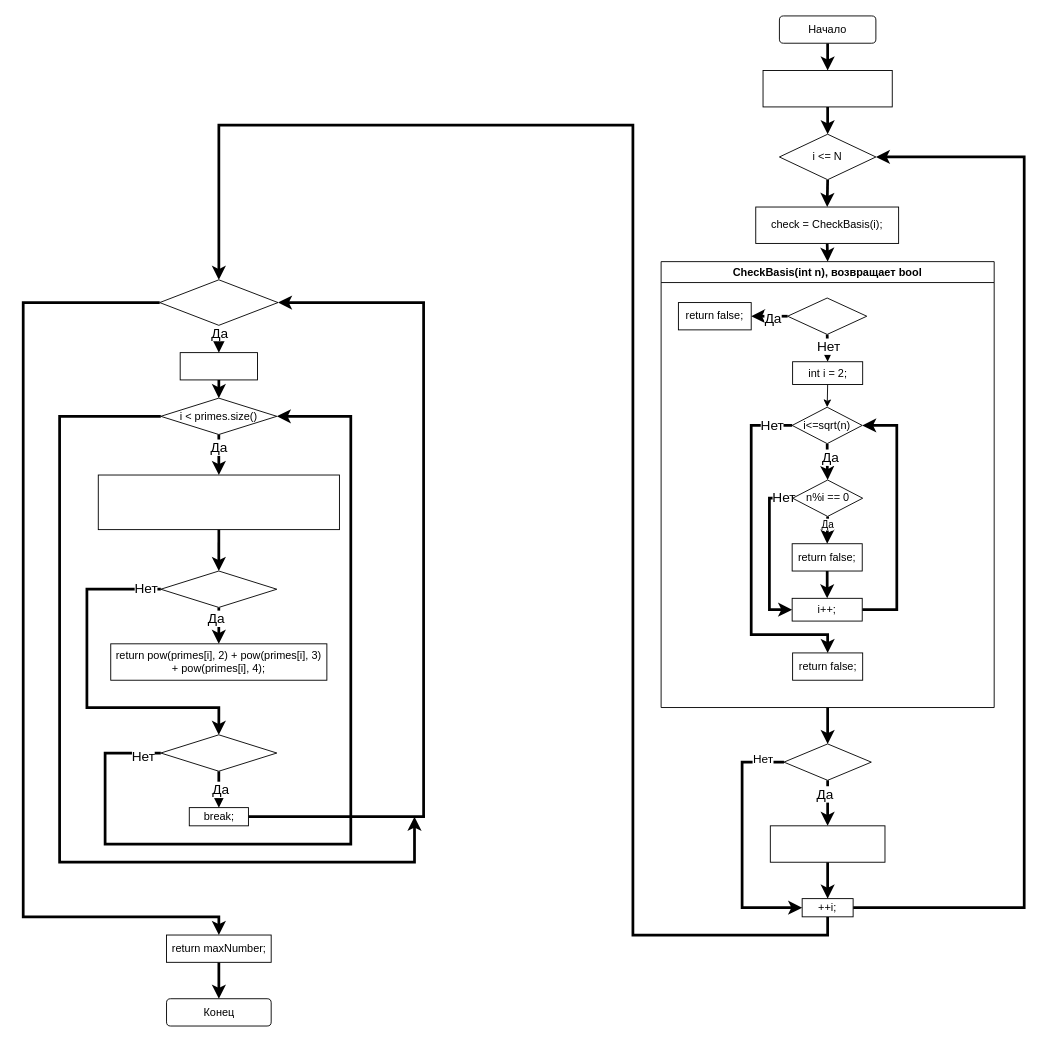
Some shapes in this 1048 by 1042 pixel diagram are drawn without their labels. The centre of each missing label's shape, as x and y in pixels:
"check" belongs at point 827,761.
"int i = 0;" belongs at point 218,366.
"int value = pow(primes[i], 2) + pow(primes[i], 3) + pow(primes[i], 4);" belongs at point 218,502.
"N < value" belongs at point 218,752.
"n <= 1" belongs at point 827,315.
"N == value" belongs at point 218,588.
"N >= 28" belongs at point 218,302.
"primes.push_back(i);" belongs at point 827,843.
"std::vector<int> primes; int N = 30; int i = 0;" belongs at point 827,88.
